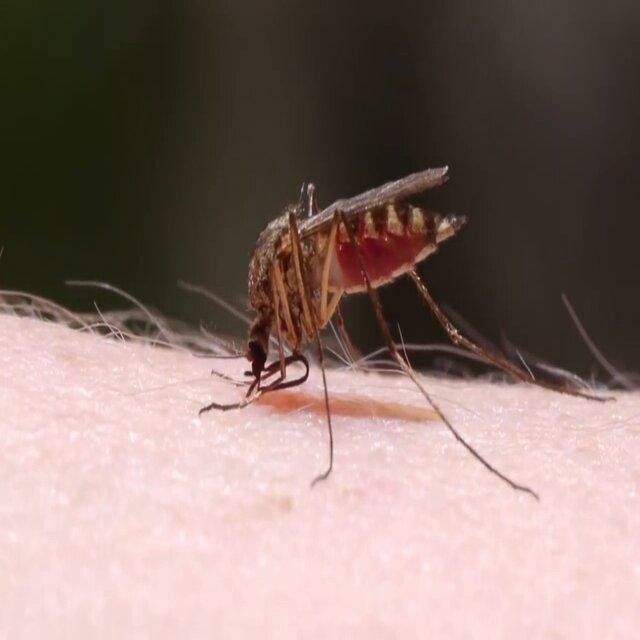mosquitos: (246, 168, 465, 382)
